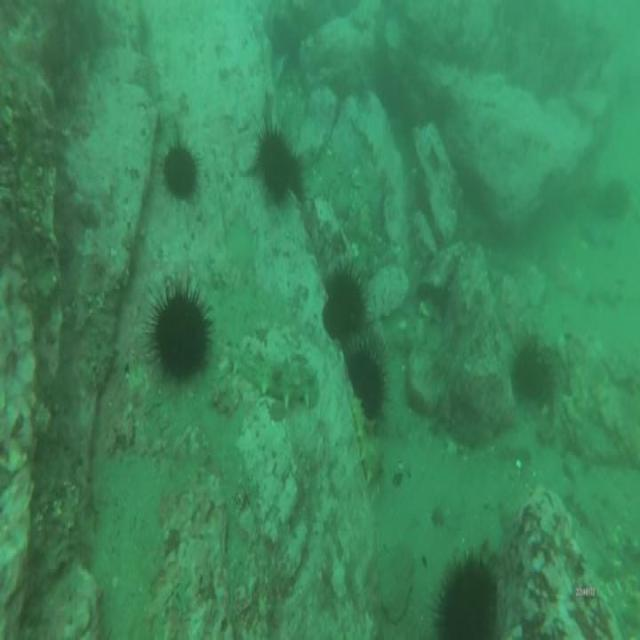echinus: (141, 278, 215, 389), (426, 547, 502, 640), (320, 259, 371, 345), (252, 123, 298, 212), (152, 126, 202, 207), (348, 346, 388, 420), (511, 340, 548, 408), (598, 171, 632, 226)
holothurian: (226, 338, 322, 414), (346, 392, 388, 496)
